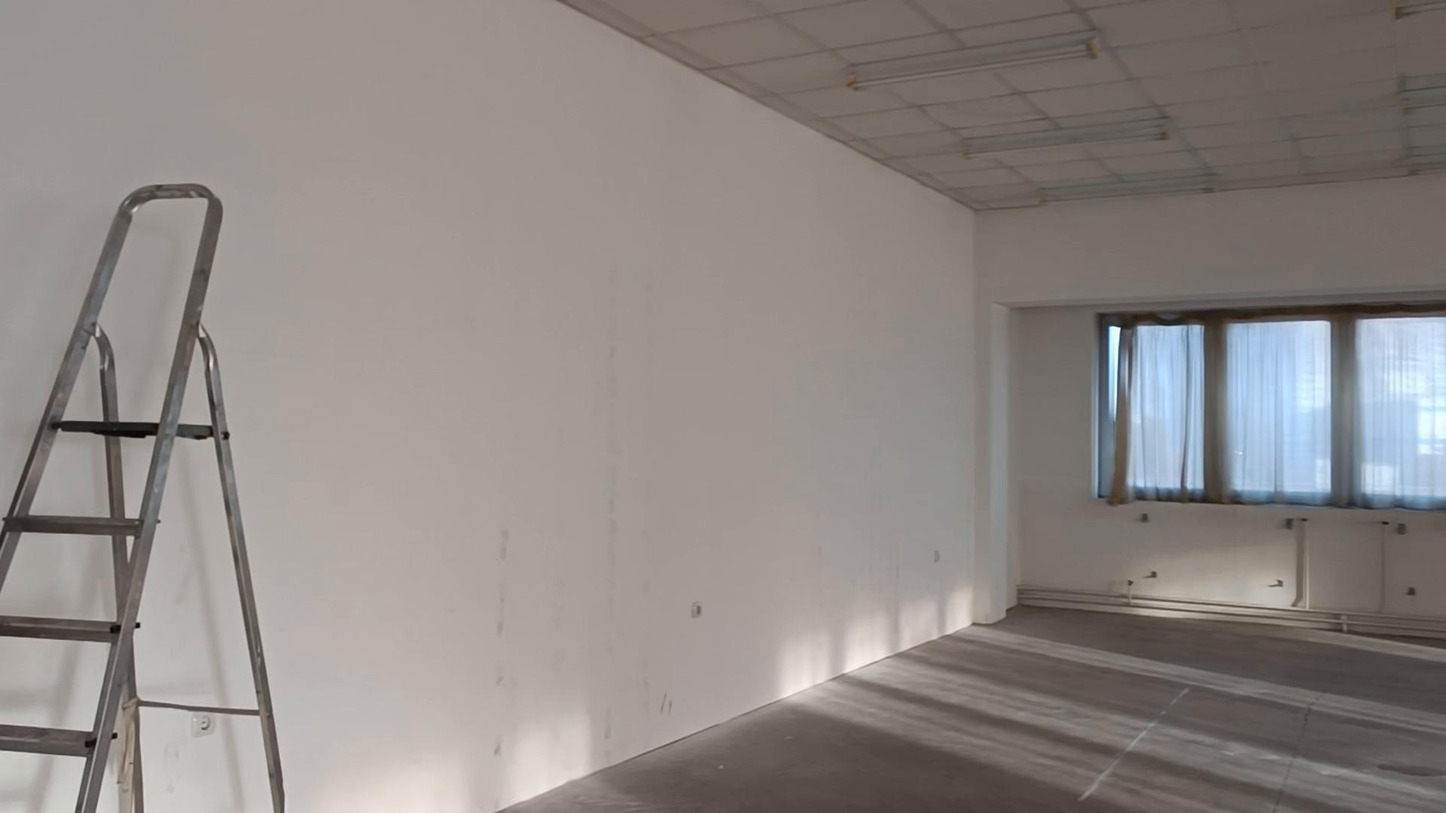ceiling: (561, 0, 1445, 209)
floor: (505, 608, 1445, 812)
wall: (0, 0, 1445, 812), (1020, 513, 1432, 622), (138, 445, 249, 703), (103, 205, 200, 417)
